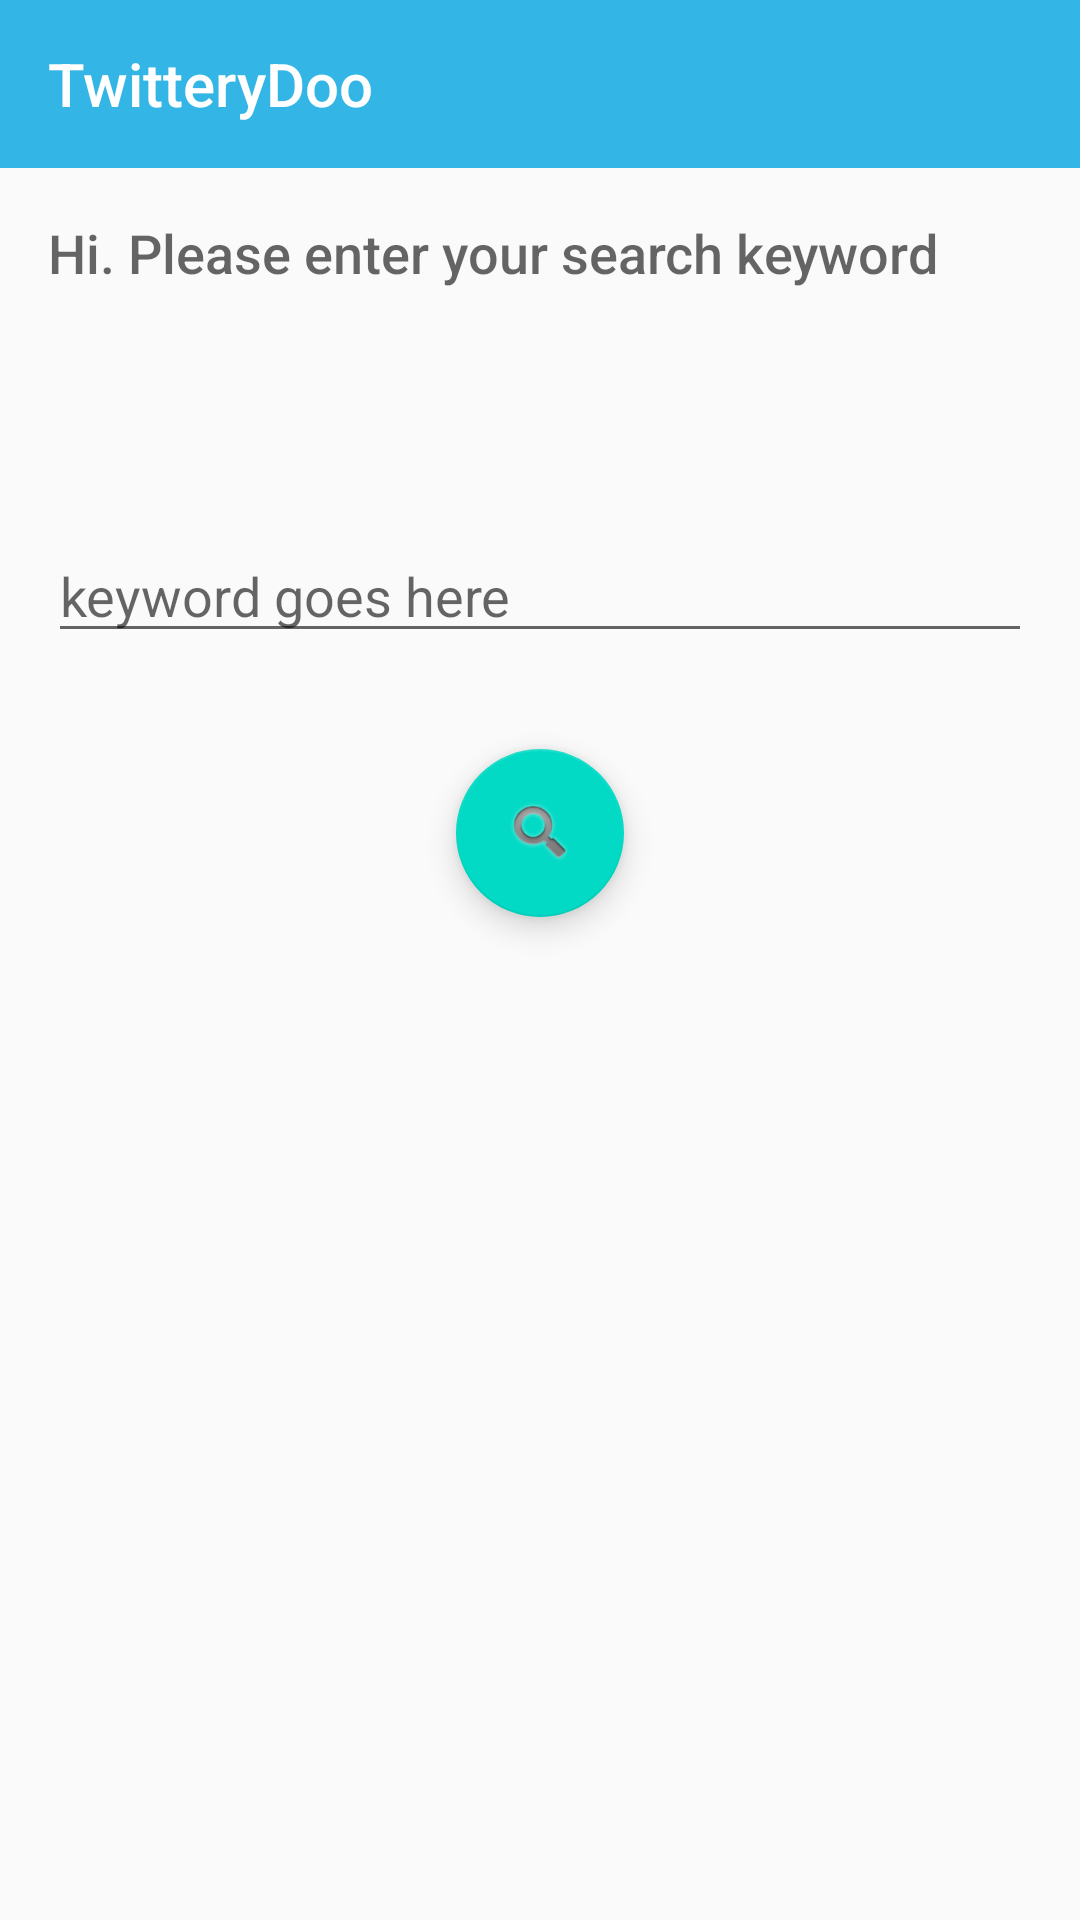

Icon click points for this 1080x1920 phone screenshot, format (x,y):
search category: (540,833)
